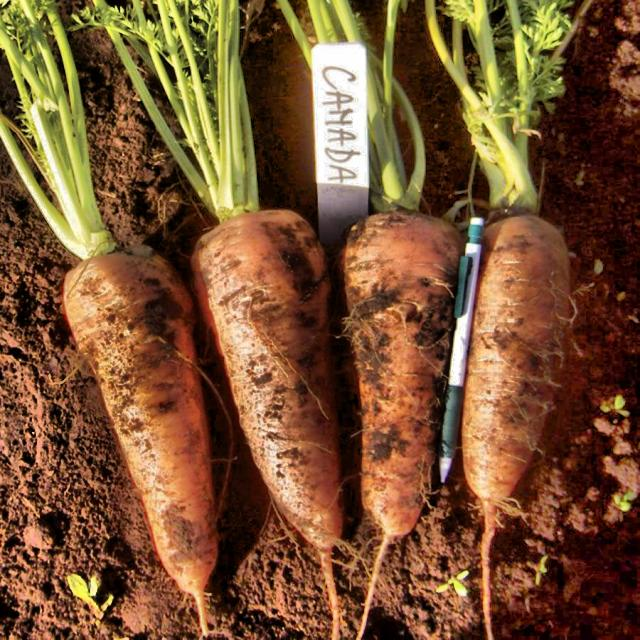carrot: (118, 3, 437, 572)
